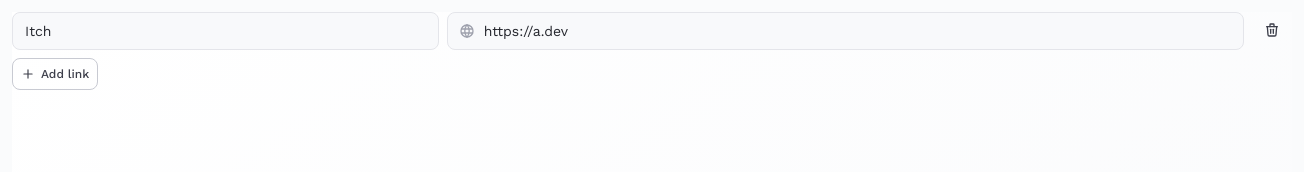
Scenario: LinkListField › appends an empty row when adding
Click the button "Add link" at (55, 74), box [12,58,98,90]
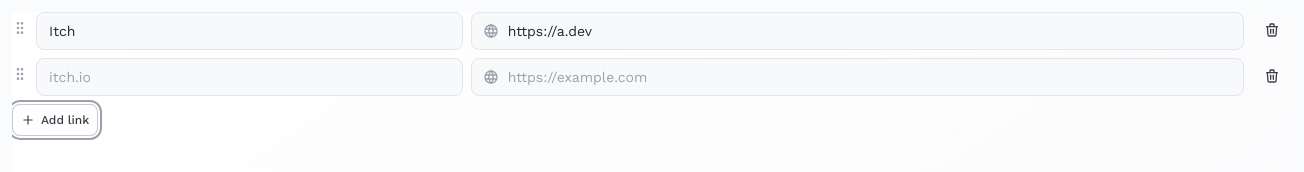
Check: the number of fields with placeholder "itch.io" is 2, box [36,12,463,50]; [36,58,463,96]
